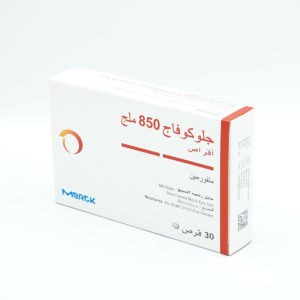Medicine: (46, 61, 263, 265)
